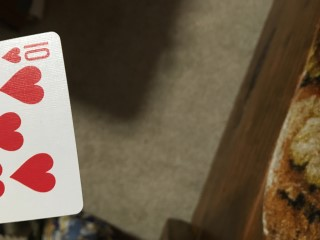TenOfHearts: (1, 32, 85, 223)
